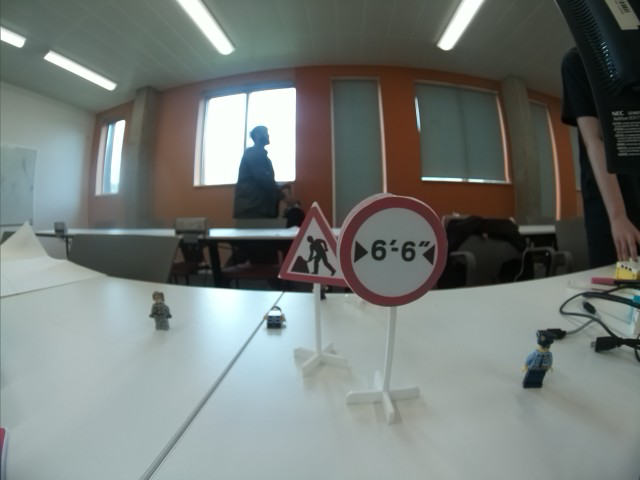6ft6: (339, 195, 448, 307)
Lego Man: (521, 329, 555, 393), (147, 289, 173, 331), (260, 305, 286, 330)
Roadworks: (275, 203, 350, 288)
